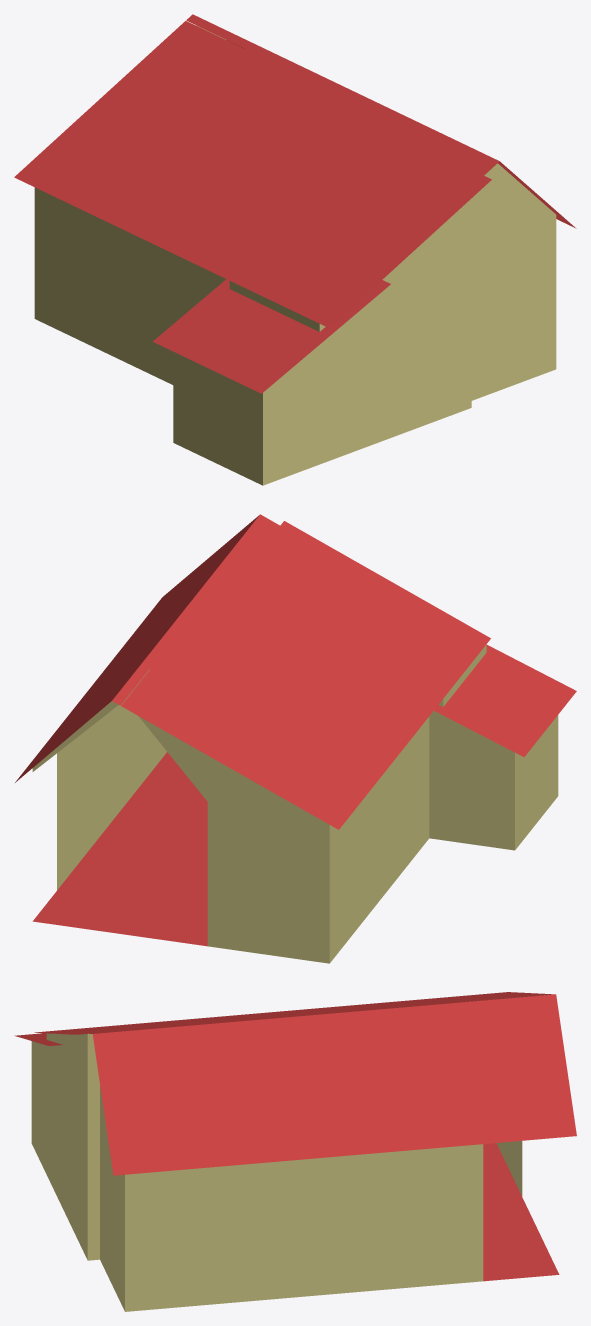
3 renders of one model, top to bottom at view 1: azimuth 30°, elevation 25°; view 2: azimuth 150°, elevation 25°; view 3: azimuth 270°, elevation 25°, orthographic.
Size of the model in its own units: 23.34 by 28.45 by 13.49.
